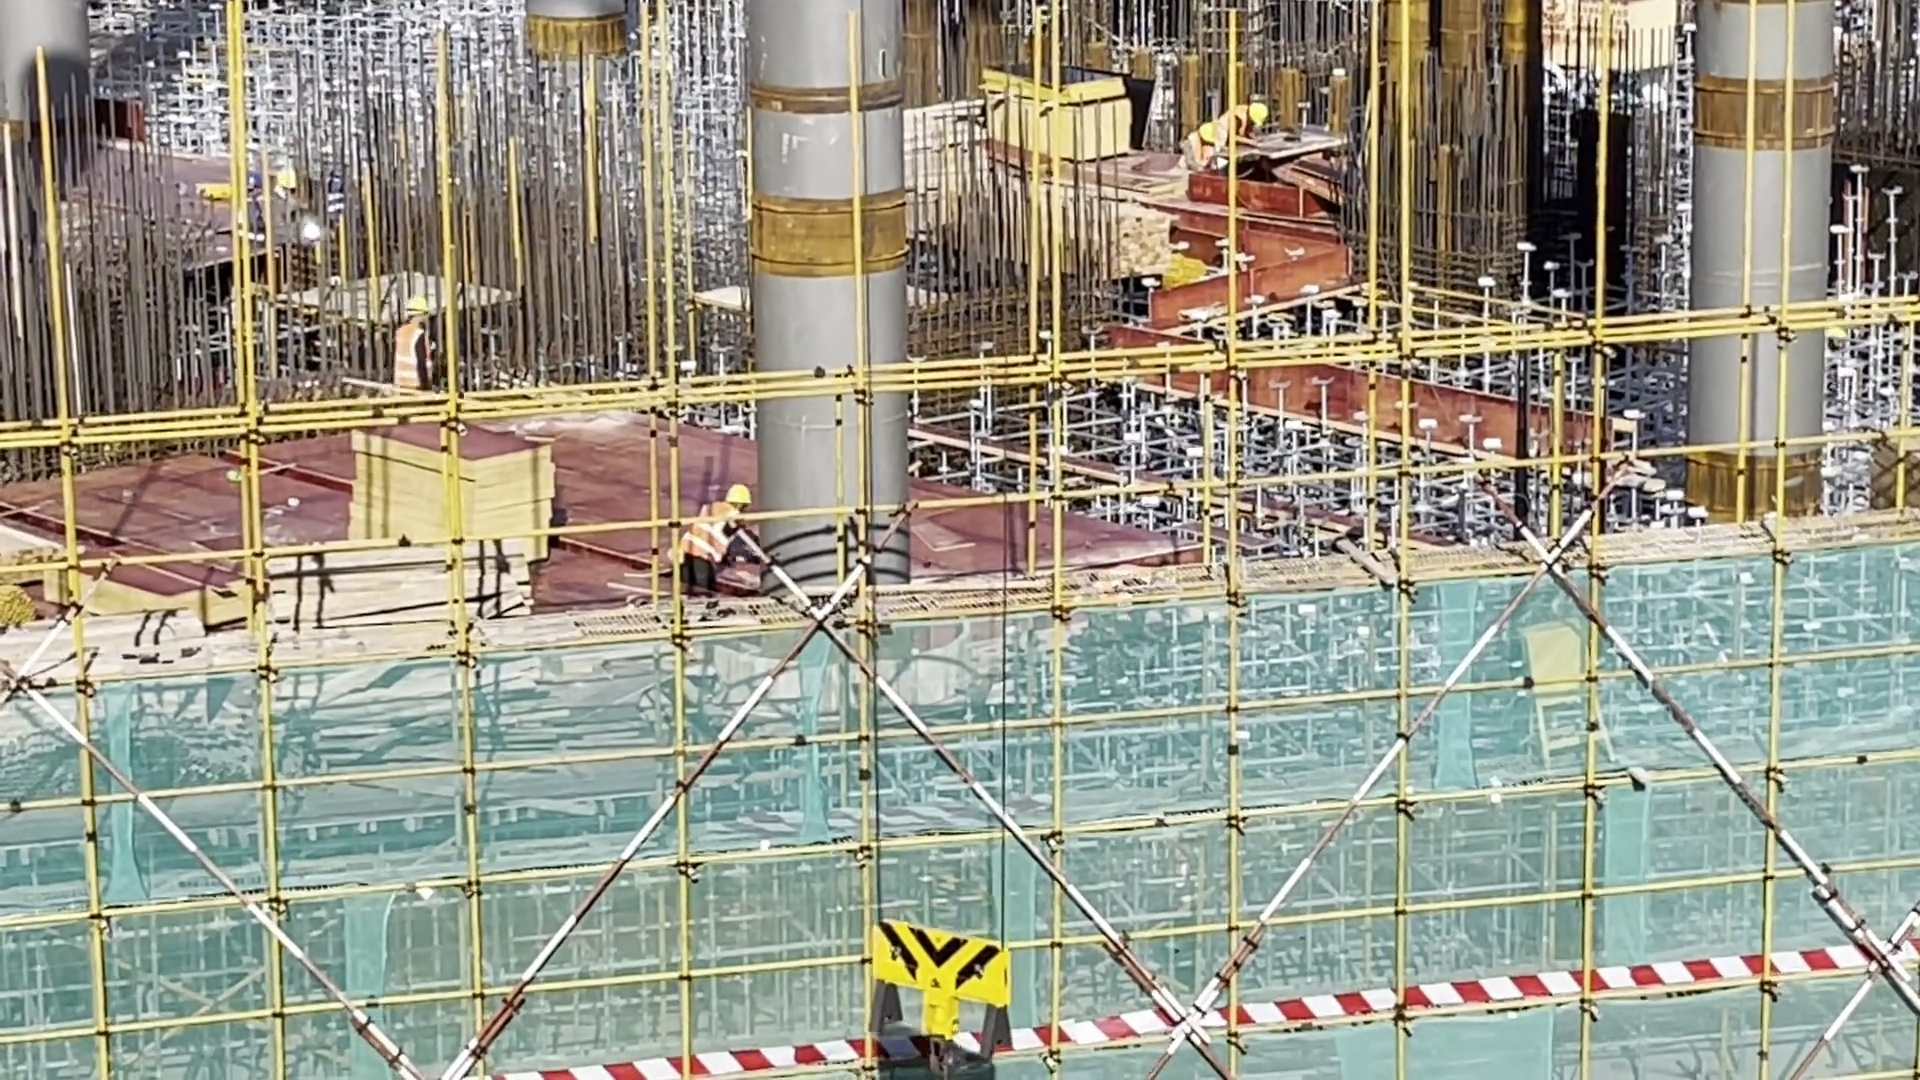board: (340, 415, 562, 562)
helmet: (727, 483, 755, 509), (1249, 102, 1267, 127), (407, 296, 429, 313), (1198, 123, 1213, 143)
hook: (863, 920, 1013, 1057)
person: (675, 484, 754, 588), (394, 295, 440, 404), (1179, 116, 1223, 166), (1213, 99, 1270, 137)
vest: (681, 501, 736, 568), (397, 325, 431, 392)
